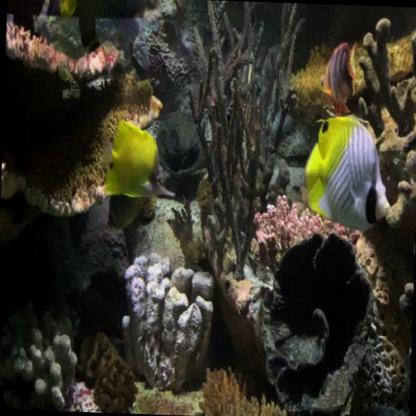fish: (302, 112, 393, 233), (102, 118, 178, 198), (44, 0, 152, 47), (318, 38, 360, 117), (107, 178, 144, 230), (40, 0, 78, 24)
